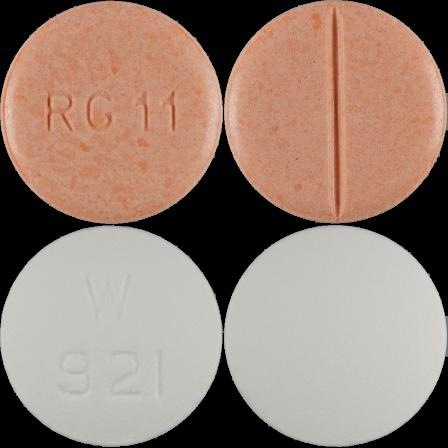68788-9331: (0, 0, 224, 224)
